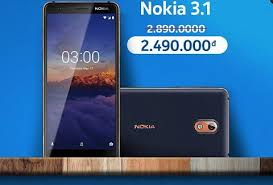nokia: (41, 1, 124, 162), (119, 86, 232, 157)
